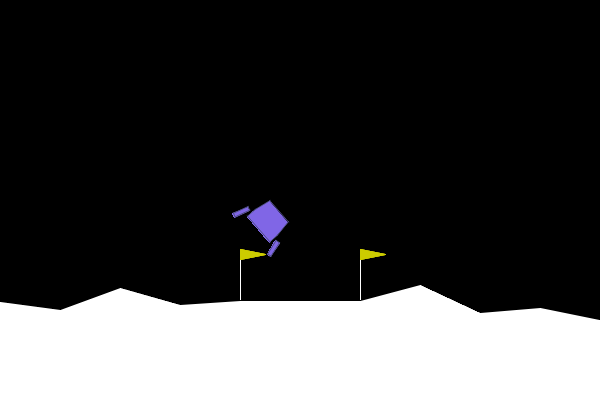lander: (230, 188, 300, 259)
